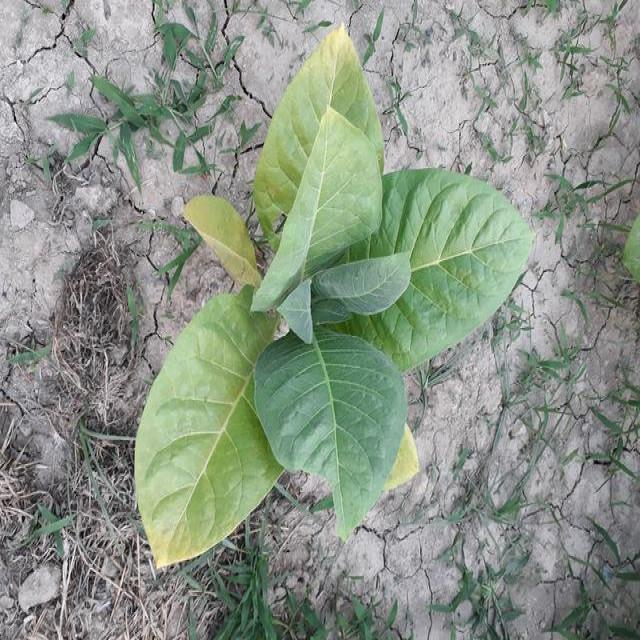crop: (135, 36, 532, 558)
